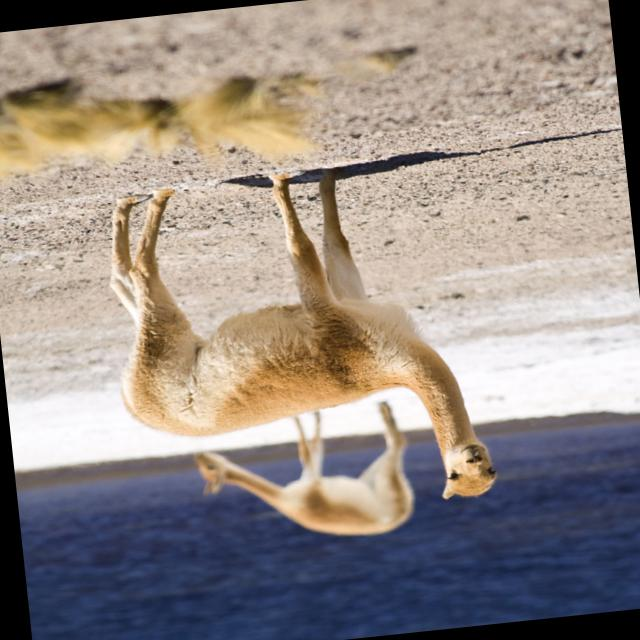alpaca: (101, 154, 498, 532), (185, 398, 415, 552)
